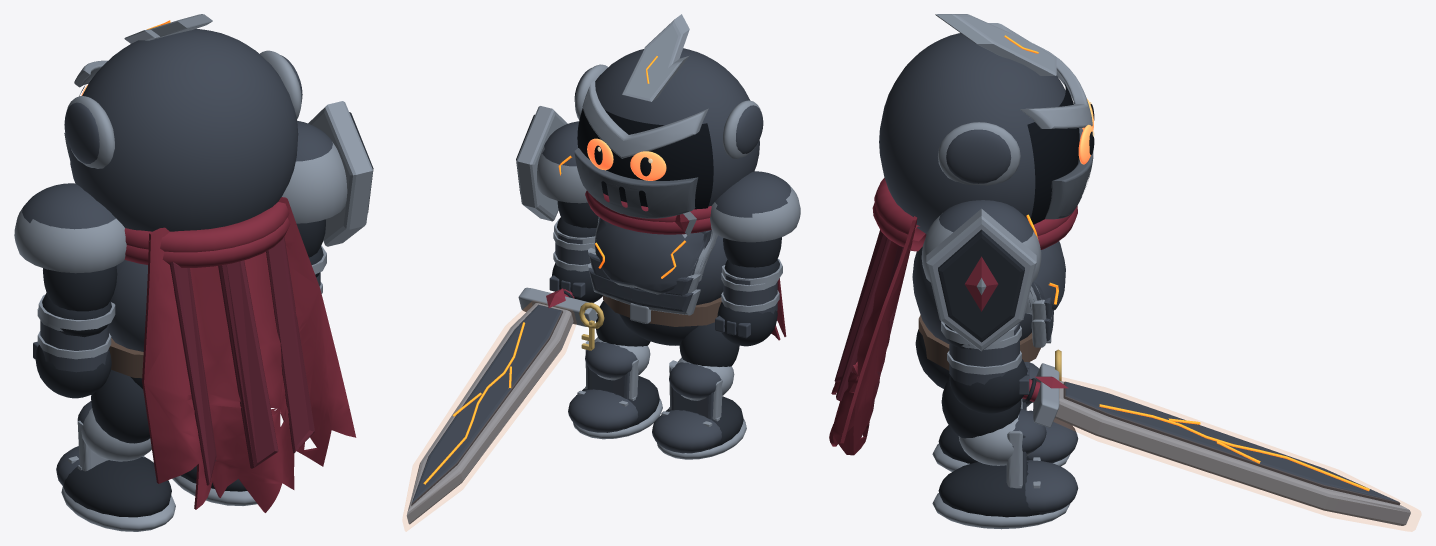
Rendered from ember-guardian.glb.
3 views of the same model, side by side, from view 1: azimuth 30°, elevation 25°; view 2: azimuth 150°, elevation 25°; view 3: azimuth 270°, elevation 25° (orthographic). The views are drawn at different scales.
Parts seen in each view (by area): view 1: armor-batch (×20), side-crest-rim; view 2: armor-batch (×29), side-crest-rim, blade-glow, ember-eye (×2); view 3: armor-batch (×25), side-crest-face, side-crest-rim, blade-glow, crimson-diamond.
Boxes of the visible parts, left/top/right/bottom form: armor-batch (×20): left=14, top=14, right=356, bottom=531; side-crest-rim: left=308, top=101, right=372, bottom=246; armor-batch (×29): left=406, top=14, right=800, bottom=524; side-crest-rim: left=516, top=106, right=567, bottom=221; blade-glow: left=403, top=303, right=575, bottom=531; ember-eye (×2): left=587, top=138, right=666, bottom=180; armor-batch (×25): left=829, top=14, right=1410, bottom=529; side-crest-face: left=938, top=229, right=1024, bottom=342; side-crest-rim: left=926, top=208, right=1036, bottom=351; blade-glow: left=1054, top=377, right=1420, bottom=531; crimson-diamond: left=965, top=256, right=998, bottom=311.
Bounding box in the file's own units: 1.21 × 1.74 × 1.93.
